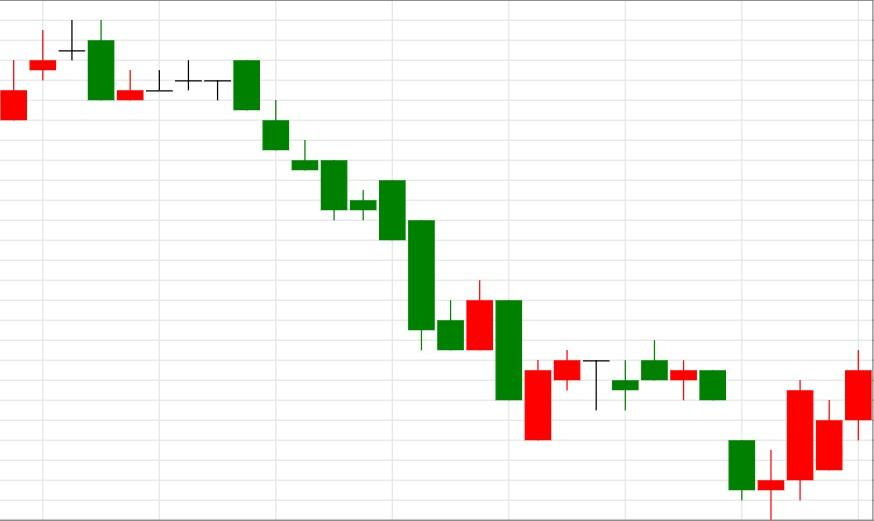bullish_engulfing_rise: (379, 178, 494, 352)
three_black_crows_fall: (86, 19, 319, 172)
